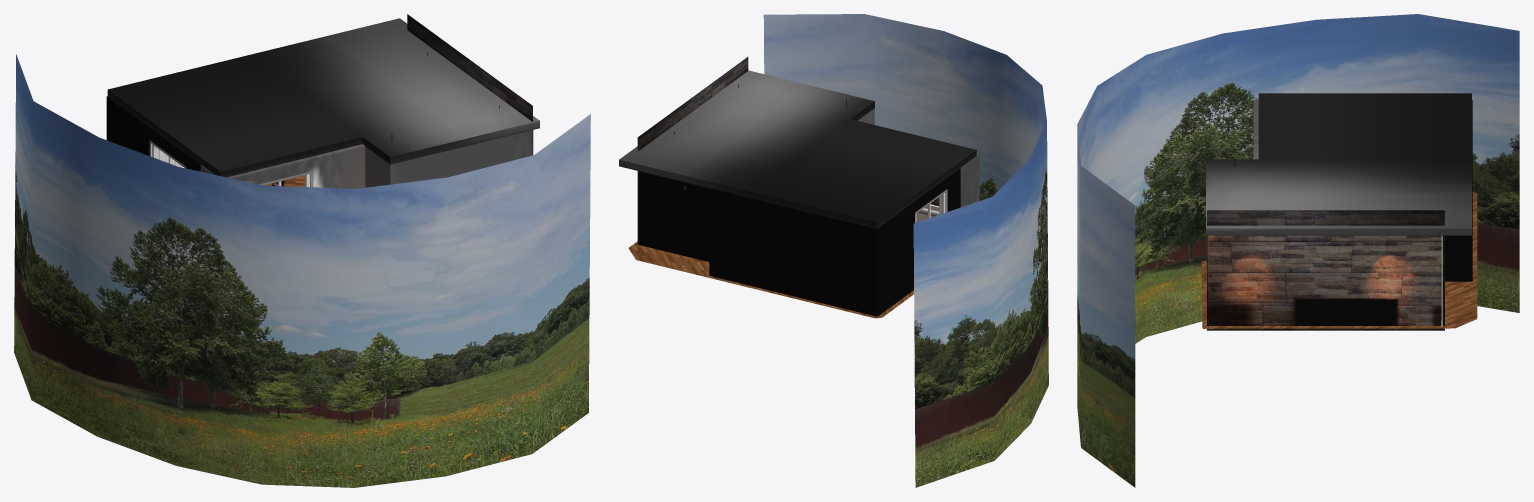
The model's file is room.glb.
3 renders of one model, left to right at view 1: azimuth 30°, elevation 25°; view 2: azimuth 150°, elevation 25°; view 3: azimuth 270°, elevation 25°, orthographic. The views are drawn at different scales.
Parts seen in each view (by area): view 1: room_outer_world, room_top, wall, wall_2, brickwall; view 2: room_outer_world, room_top, wall_2, floor, brickwall, wall; view 3: room_outer_world, room_top, brickwall, floor, wall_2, wall.
Part boxes in pixels (bbox=[...]): room_outer_world: bbox=[14, 54, 590, 487]; room_top: bbox=[107, 18, 539, 177]; wall: bbox=[200, 130, 533, 188]; wall_2: bbox=[106, 96, 200, 171]; brickwall: bbox=[407, 14, 532, 154]; room_outer_world: bbox=[763, 14, 1048, 487]; room_top: bbox=[619, 70, 976, 228]; wall_2: bbox=[638, 168, 960, 316]; floor: bbox=[628, 241, 913, 318]; brickwall: bbox=[637, 57, 748, 244]; wall: bbox=[858, 108, 979, 221]; room_outer_world: bbox=[1077, 14, 1519, 487]; room_top: bbox=[1206, 93, 1471, 235]; brickwall: bbox=[1207, 210, 1444, 330]; floor: bbox=[1201, 192, 1477, 328]; wall_2: bbox=[1441, 100, 1472, 326]; wall: bbox=[1206, 100, 1258, 326].
Bounding box in the file's own units: 10.38 × 7.29 × 10.22.
Materials: 44 (25 with a texture image).
